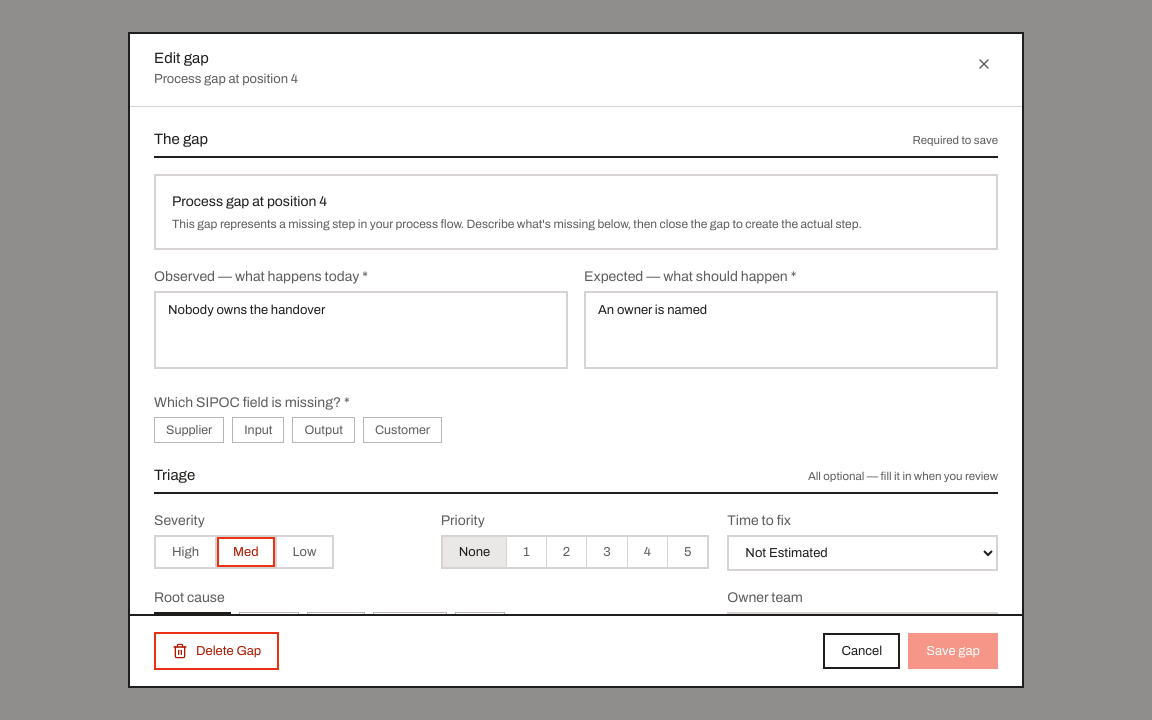
Test: GapForm process positions (#345) › cites the same position in the delete confirmation
The width and height of the screenshot is (1152, 720).
Click the button "Delete Gap" at (217, 651), box [154,632,279,670]
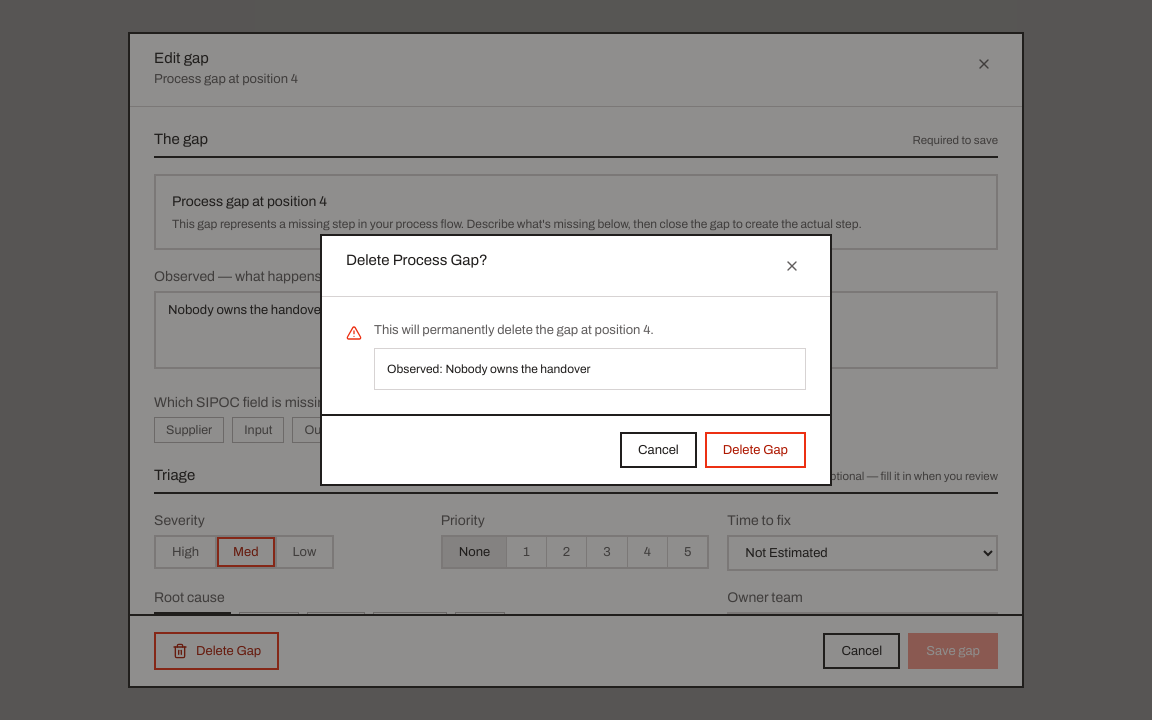
Expected: the text "This will permanently delete the gap at position 4." is shown, [374,323,654,337]
